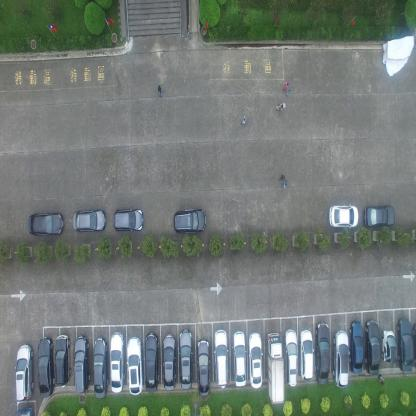car: (267, 331, 285, 406), (13, 343, 34, 405), (36, 336, 56, 398), (126, 335, 144, 396), (92, 336, 109, 400), (73, 334, 91, 393), (110, 329, 126, 394), (177, 326, 193, 390), (144, 331, 160, 394), (27, 211, 65, 237), (332, 330, 349, 388), (214, 328, 230, 388), (396, 316, 413, 372), (55, 333, 71, 389), (315, 321, 329, 385), (173, 207, 207, 233), (72, 208, 107, 233), (162, 333, 176, 392), (112, 207, 145, 232), (196, 339, 210, 397), (284, 328, 298, 386), (329, 203, 359, 230), (233, 331, 247, 387), (249, 332, 263, 388), (365, 319, 379, 375), (300, 328, 314, 383), (349, 320, 363, 374), (364, 204, 395, 227), (382, 328, 397, 364)
